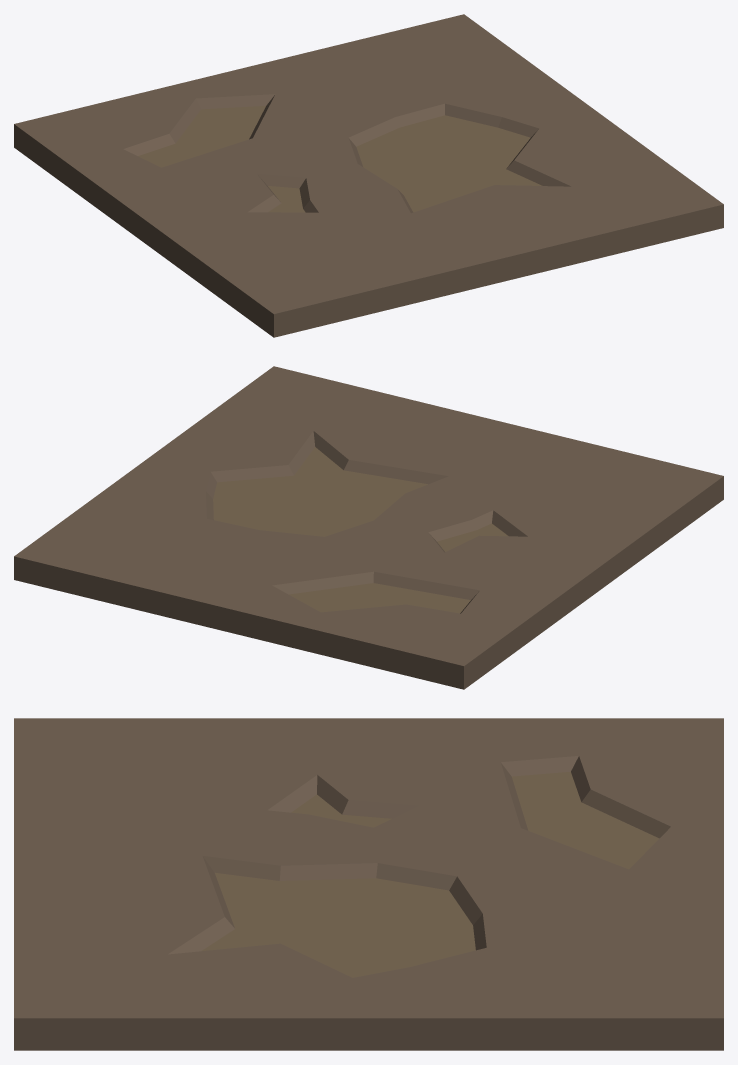
File: LP_PostApoc_Pavement.fbx
3 views of the same model, one above another, from view 1: azimuth 30°, elevation 25°; view 2: azimuth 150°, elevation 25°; view 3: azimuth 270°, elevation 25° (orthographic). The views are drawn at different scales.
Visible parts, largest first — view 1: Pavement; view 2: Pavement; view 3: Pavement.
Part boxes in pixels (left/top/right/bottom): Pavement: left=14, top=14, right=723, bottom=337; Pavement: left=14, top=366, right=723, bottom=689; Pavement: left=14, top=718, right=723, bottom=1050.
Size of the model in its own units: 400 by 20 by 400.
